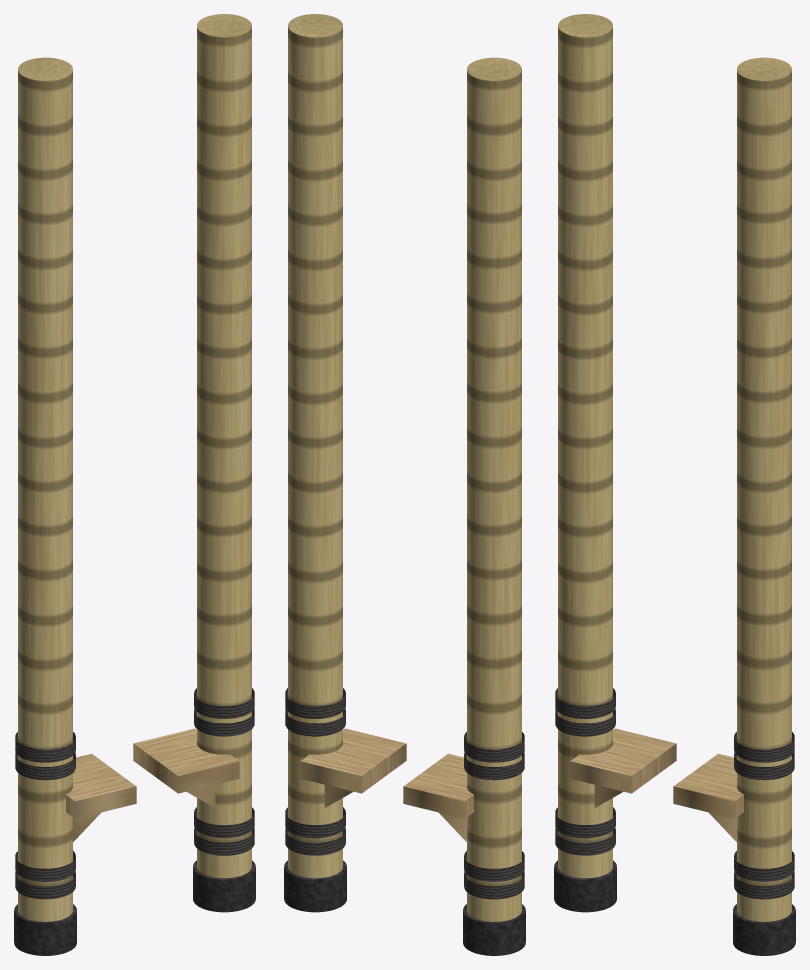
Rendered from EgrangAnak_Lingkaran.fbx.
The picture shows the model from 3 angles, left to right: view 1: azimuth 30°, elevation 25°; view 2: azimuth 150°, elevation 25°; view 3: azimuth 330°, elevation 25°; orthographic projection.
Visible parts, largest first — view 1: EgrangAnak_Lingkaran_L, EgrangAnak_Lingkaran_R; view 2: EgrangAnak_Lingkaran_L, EgrangAnak_Lingkaran_R; view 3: EgrangAnak_Lingkaran_R, EgrangAnak_Lingkaran_L.
Boxes of the visible parts, bbox=[...] form: EgrangAnak_Lingkaran_L: bbox=[14, 57, 136, 955]; EgrangAnak_Lingkaran_R: bbox=[133, 14, 255, 912]; EgrangAnak_Lingkaran_L: bbox=[403, 57, 525, 955]; EgrangAnak_Lingkaran_R: bbox=[284, 14, 406, 912]; EgrangAnak_Lingkaran_R: bbox=[673, 57, 795, 955]; EgrangAnak_Lingkaran_L: bbox=[554, 14, 676, 912].
Size of the model in its own units: 39.13 by 140 by 13.
Materials: 1 (1 with a texture image).
